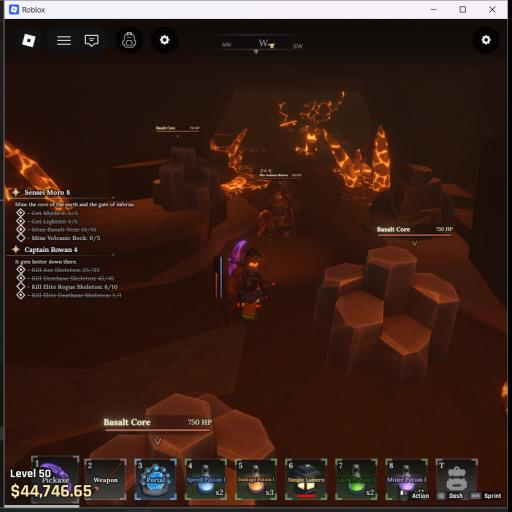player: (225, 248, 262, 317)
rock: (312, 247, 459, 386), (84, 393, 275, 488), (154, 148, 223, 210)
